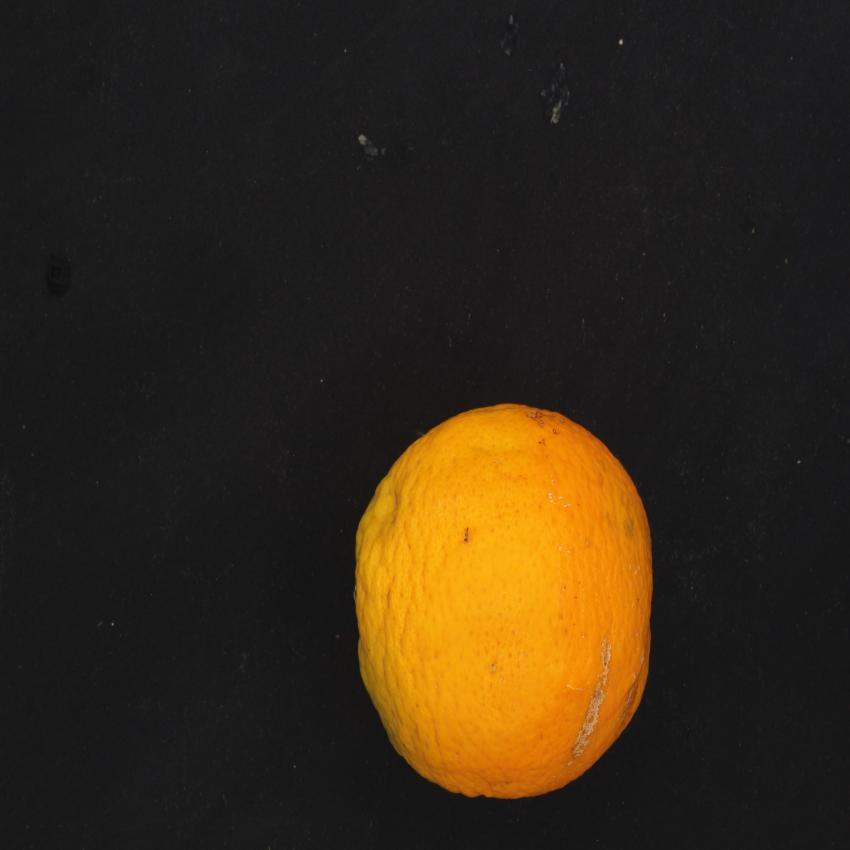Mal estado: (346, 394, 680, 806)
